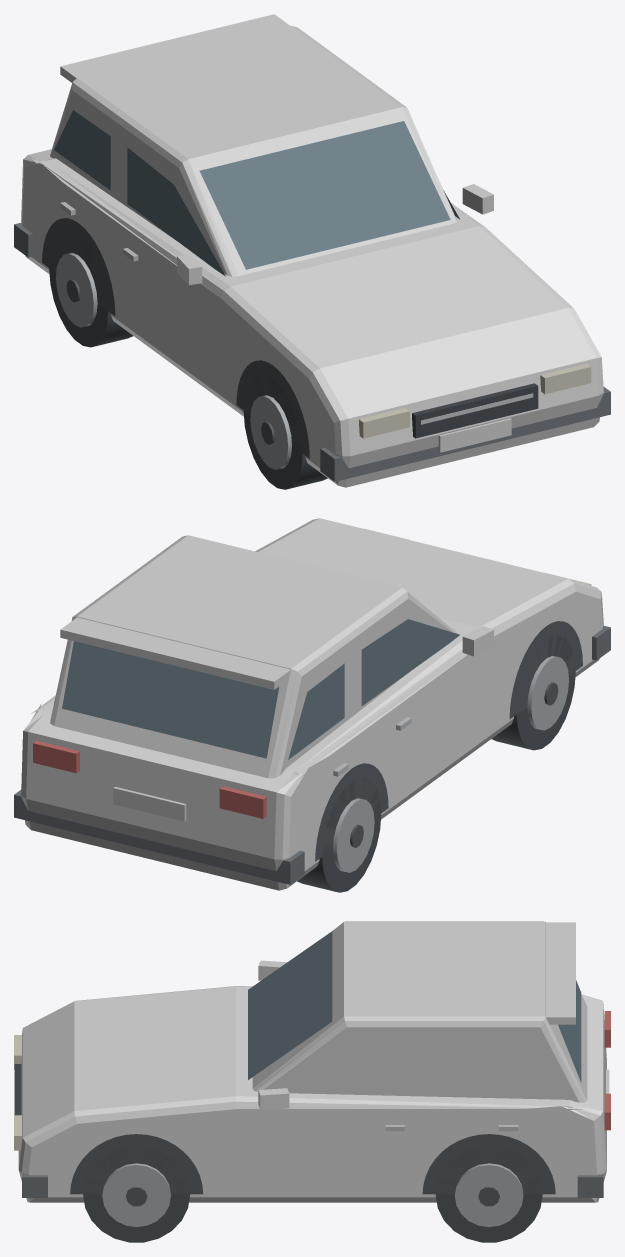
File: hatch.glb
3 views of the same model, one above another, from view 1: azimuth 30°, elevation 25°; view 2: azimuth 150°, elevation 25°; view 3: azimuth 270°, elevation 25° (orthographic). The views are drawn at different scales.
Parts seen in each view (by area): view 1: hatch; view 2: hatch; view 3: hatch.
Part boxes in pixels (box(x1,y1,x2,y2)): hatch: box(14, 14, 610, 489); hatch: box(14, 518, 610, 892); hatch: box(14, 921, 610, 1242).
Bounding box in the file's own units: 1.97 × 1.45 × 3.68.
